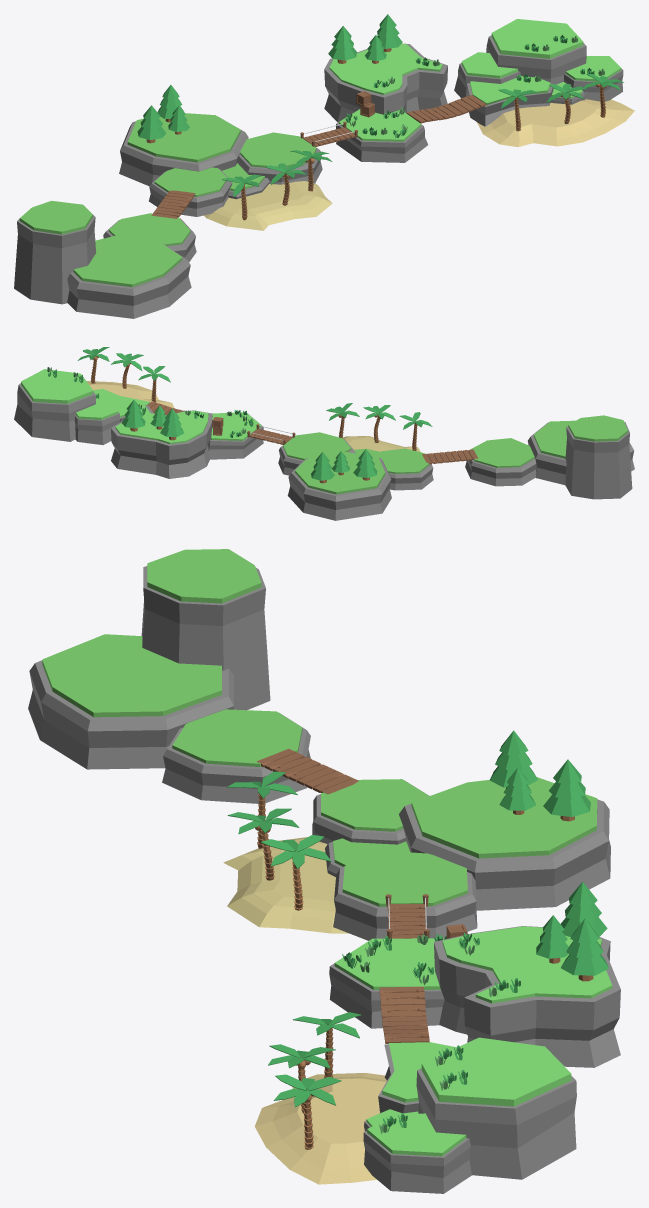
File: ModelisationLevelPlatformer_ExportGodot.glb
The picture shows the model from 3 angles, top to bottom: view 1: azimuth 30°, elevation 25°; view 2: azimuth 150°, elevation 25°; view 3: azimuth 270°, elevation 25°; orthographic projection. The views are drawn at different scales.
Parts seen in each view (by area): view 1: LevelPlatformer; view 2: LevelPlatformer; view 3: LevelPlatformer.
Part boxes in pixels (x1,y1,x2,y2): LevelPlatformer: [14, 14, 634, 318]; LevelPlatformer: [14, 347, 634, 520]; LevelPlatformer: [28, 549, 620, 1193].
Bounding box in the file's own units: 18.13 × 2.21 × 8.49.
